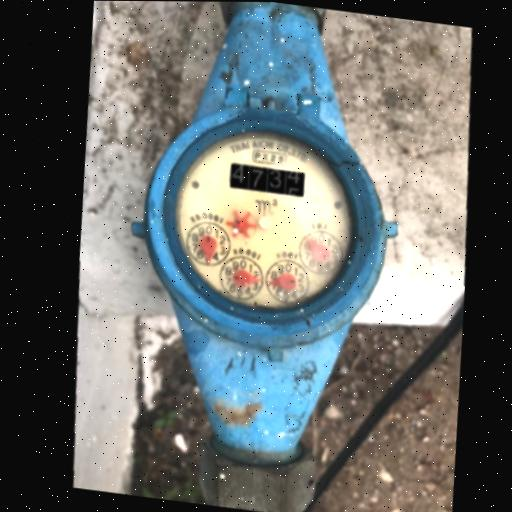3: (266, 169, 287, 194)
4: (283, 172, 307, 197), (229, 164, 252, 190)
7: (247, 166, 269, 192)
border_water_meter_number: (227, 163, 308, 198)
